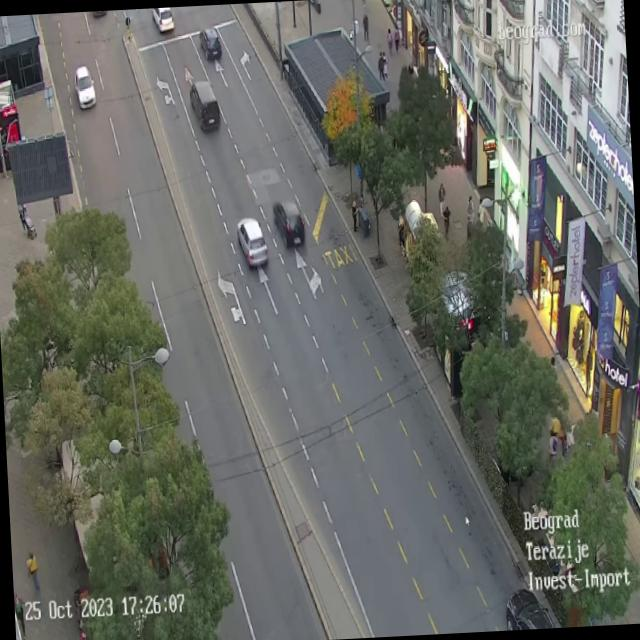car: (504, 587, 555, 630), (236, 217, 269, 270), (188, 79, 220, 131), (276, 200, 306, 249), (74, 64, 96, 110), (198, 28, 222, 62), (152, 7, 174, 34)
